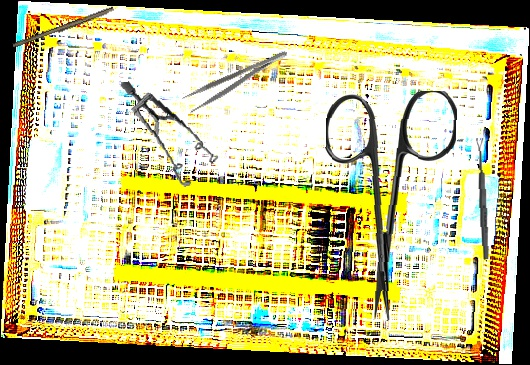Dressing Forceps: (181, 47, 293, 115)
Iris Scissors: (319, 87, 458, 323)
Scalpel Handle: (12, 5, 115, 51)
Speculum: (120, 70, 222, 194)
Surgical Spoon: (475, 137, 491, 260)
